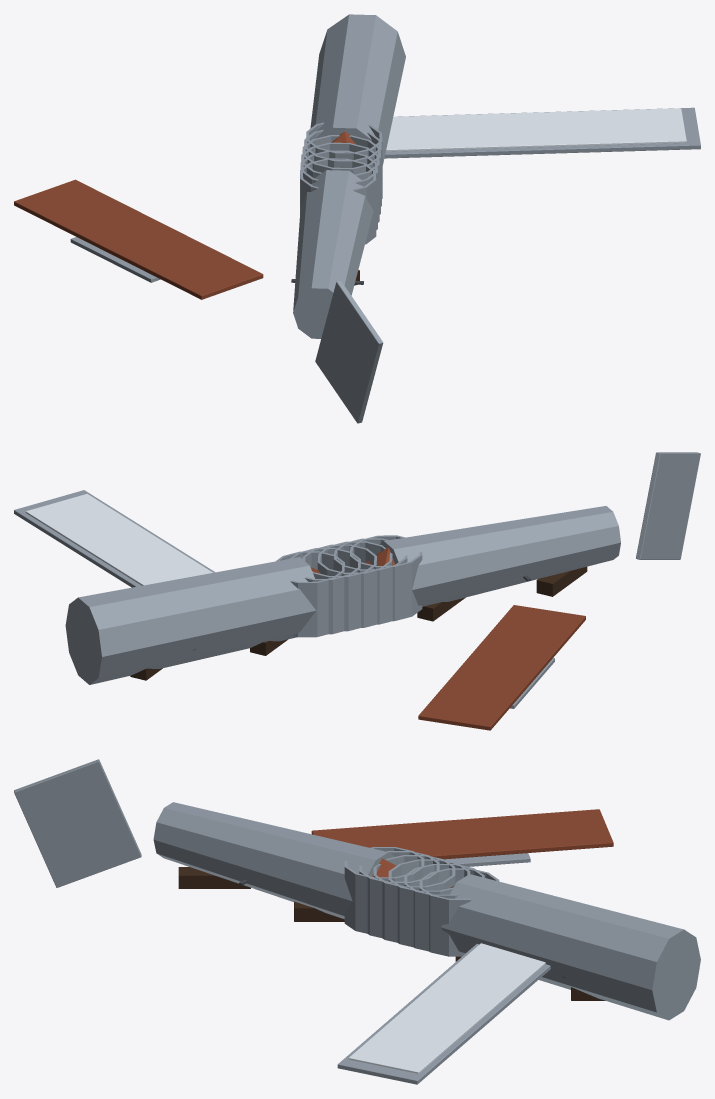
Rendered from Station_Wreck_0_0.fbx.
The picture shows the model from 3 angles, top to bottom: view 1: azimuth 30°, elevation 25°; view 2: azimuth 150°, elevation 25°; view 3: azimuth 270°, elevation 25°; orthographic projection. The views are drawn at different scales.
Visible parts, largest first — view 1: Station_Wreck_0_0; view 2: Station_Wreck_0_0; view 3: Station_Wreck_0_0.
Part boxes in pixels (left/top/right/bottom): Station_Wreck_0_0: left=14, top=14, right=700, bottom=423; Station_Wreck_0_0: left=14, top=452, right=700, bottom=730; Station_Wreck_0_0: left=14, top=759, right=700, bottom=1084.
Bounding box in the file's own units: 4893 × 1005 × 4932.
